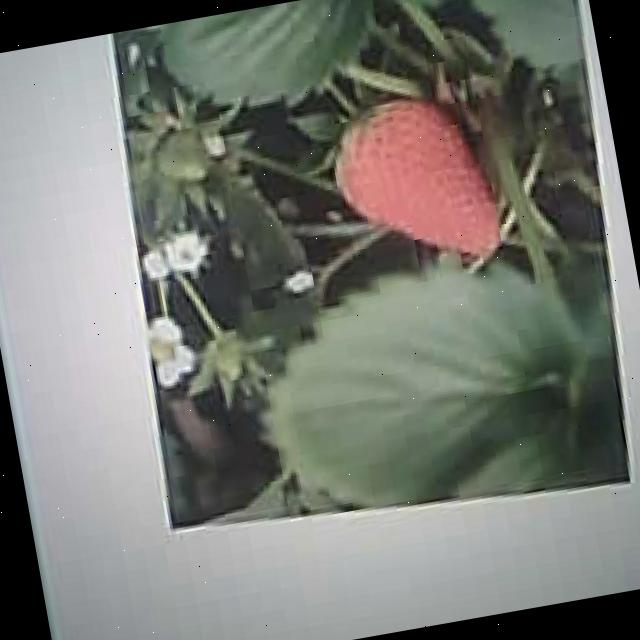strawberry: (324, 86, 501, 274)
